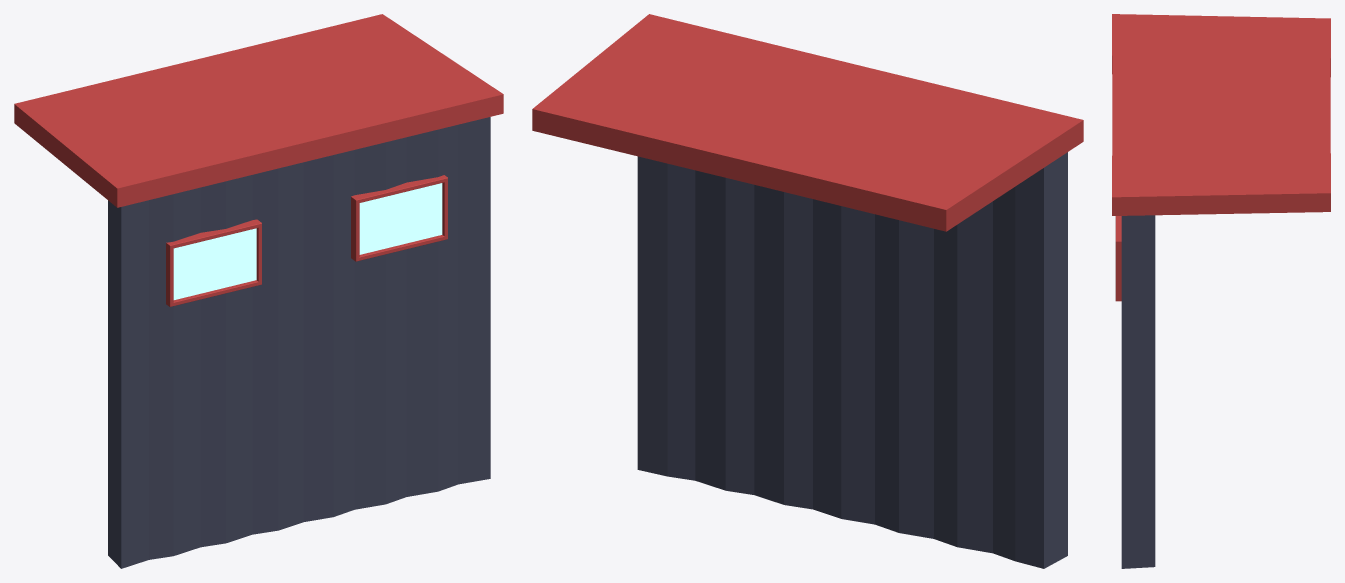
Rendered from medium_wall.fbx.
3 renders of one model, left to right at view 1: azimuth 30°, elevation 25°; view 2: azimuth 150°, elevation 25°; view 3: azimuth 270°, elevation 25°, orthographic. The views are drawn at different scales.
Visible parts, largest first — view 1: WarehouseSmallWall.001; view 2: WarehouseSmallWall.001; view 3: WarehouseSmallWall.001.
Part boxes in pixels (<box>): WarehouseSmallWall.001: <box>14,14,503,568</box>; WarehouseSmallWall.001: <box>532,14,1083,568</box>; WarehouseSmallWall.001: <box>1112,14,1330,568</box>.
Size of the model in its own units: 209 by 200 by 106.
